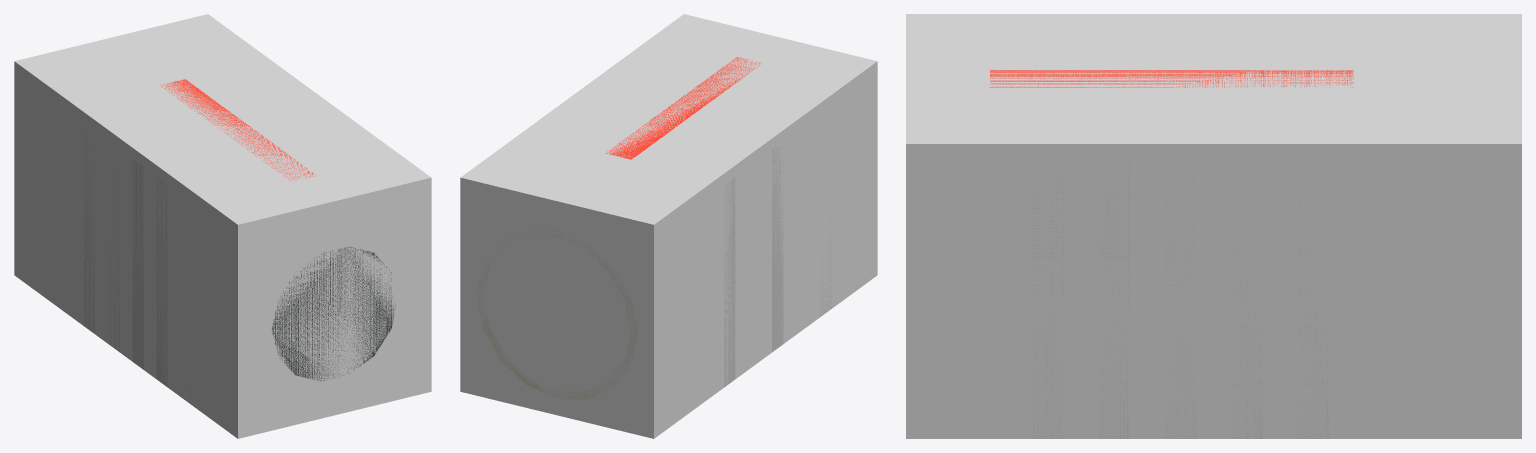
File: rifle_emitter_laser.glb
3 renders of one model, left to right at view 1: azimuth 30°, elevation 25°; view 2: azimuth 150°, elevation 25°; view 3: azimuth 270°, elevation 25°, orthographic. The views are drawn at different scales.
Visible parts, largest first — view 1: COL_part, emitter; view 2: COL_part, emitter; view 3: COL_part, emitter.
Boxes of the visible parts, <box> form: COL_part: <box>14,14,431,438</box>; emitter: <box>84,79,395,402</box>; COL_part: <box>460,14,877,438</box>; emitter: <box>476,57,831,399</box>; COL_part: <box>906,14,1521,438</box>; emitter: <box>990,70,1353,438</box>.
Size of the model in its own units: 0.0374 by 0.0395 by 0.0748.
